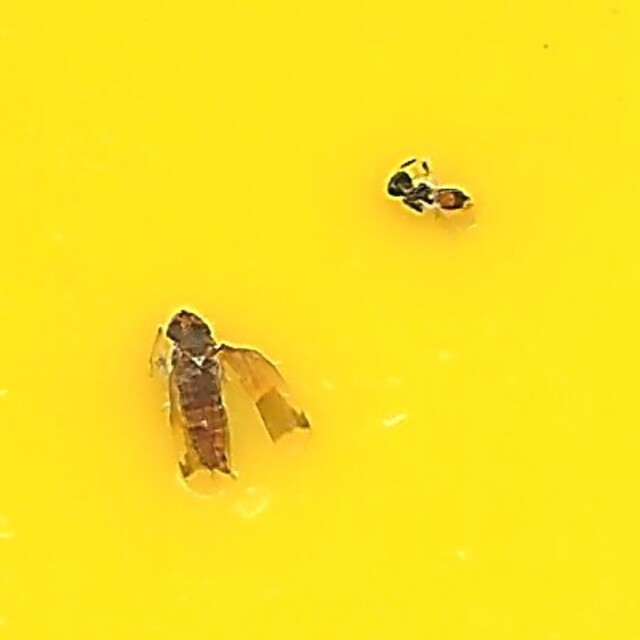Hemiptera: (160, 298, 306, 487)
Hymenoptera: (379, 153, 480, 223)
